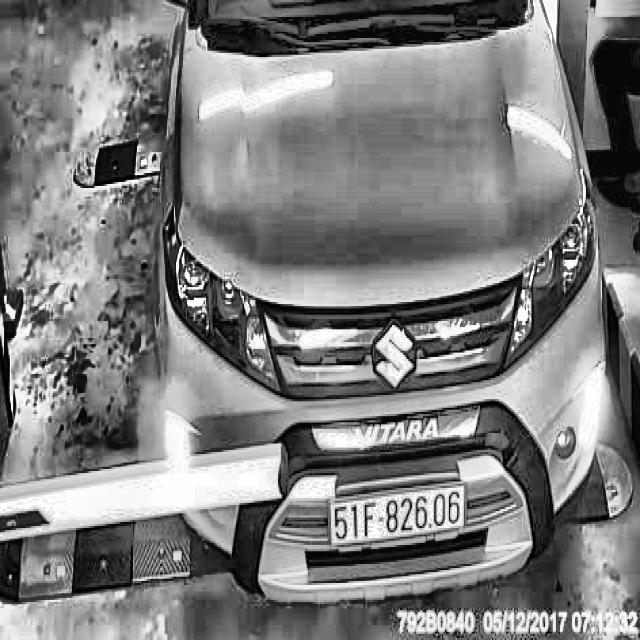plate: (323, 483, 471, 555)
